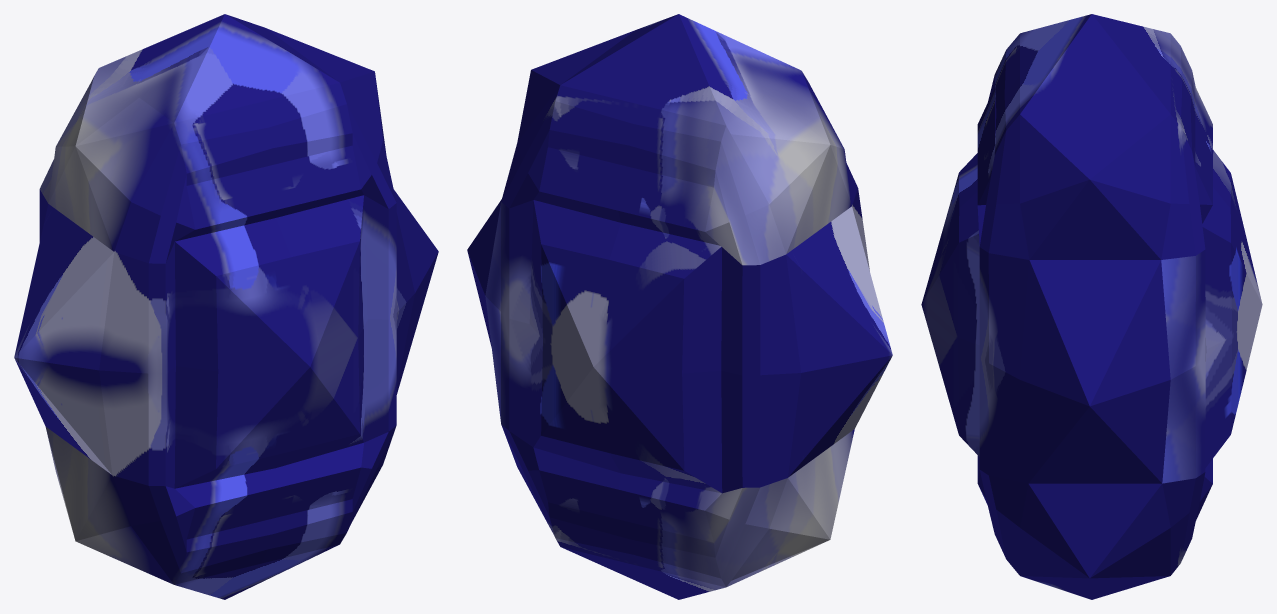
Rendered from Blue_Gem_Final_Textured.fbx.
3 renders of one model, left to right at view 1: azimuth 30°, elevation 25°; view 2: azimuth 150°, elevation 25°; view 3: azimuth 270°, elevation 25°, orthographic.
Parts seen in each view (by area): view 1: polySurface1; view 2: polySurface1; view 3: polySurface1.
Part boxes in pixels (x1=…): polySurface1: x1=14, y1=14, x2=438, y2=599; polySurface1: x1=467, y1=14, x2=892, y2=599; polySurface1: x1=921, y1=14, x2=1262, y2=599.
Size of the model in its own units: 1.8 by 2.36 by 1.25.
1 material, 1 textured.
